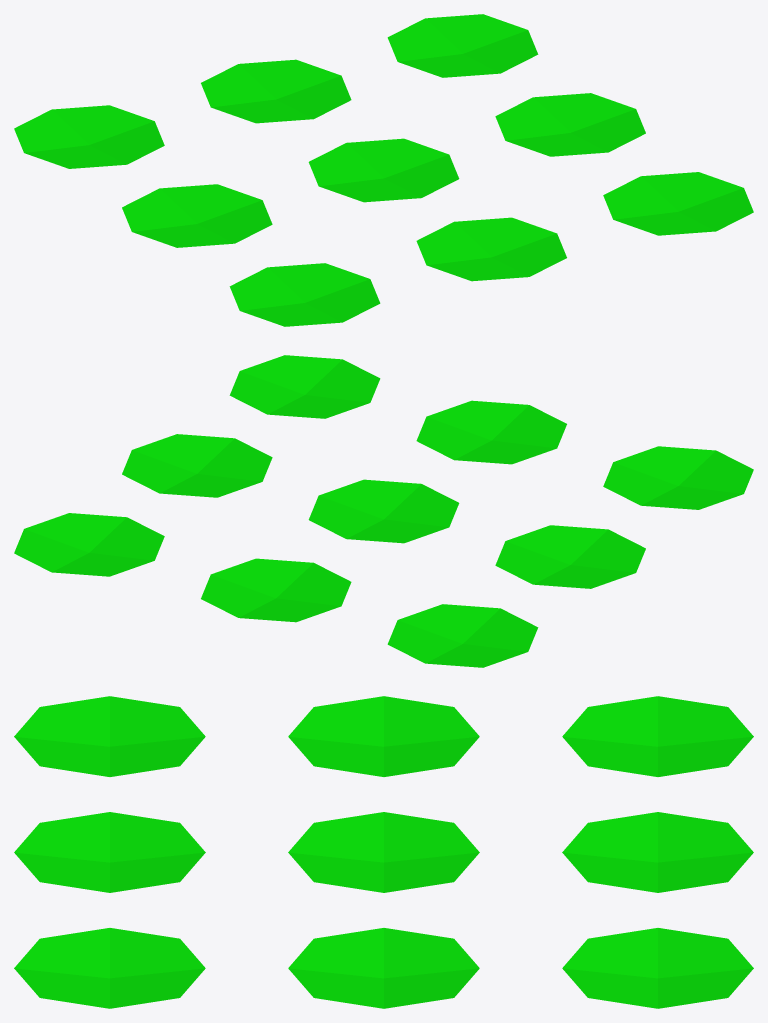
The model's file is Flowers_TextureTest.fbx.
3 renders of one model, top to bottom at view 1: azimuth 30°, elevation 25°; view 2: azimuth 150°, elevation 25°; view 3: azimuth 270°, elevation 25°, orthographic. The views are drawn at different scales.
Parts seen in each view (by area): view 1: SM_FlowerBakeLow_1.008; view 2: SM_FlowerBakeLow_1.008; view 3: SM_FlowerBakeLow_1.008.
Part boxes in pixels (x1=…): SM_FlowerBakeLow_1.008: x1=14, y1=14, x2=753, y2=326; SM_FlowerBakeLow_1.008: x1=14, y1=355, x2=753, y2=667; SM_FlowerBakeLow_1.008: x1=14, y1=696, x2=753, y2=1008.
Bounding box in the file's own units: 270 × 4.06 × 270.
